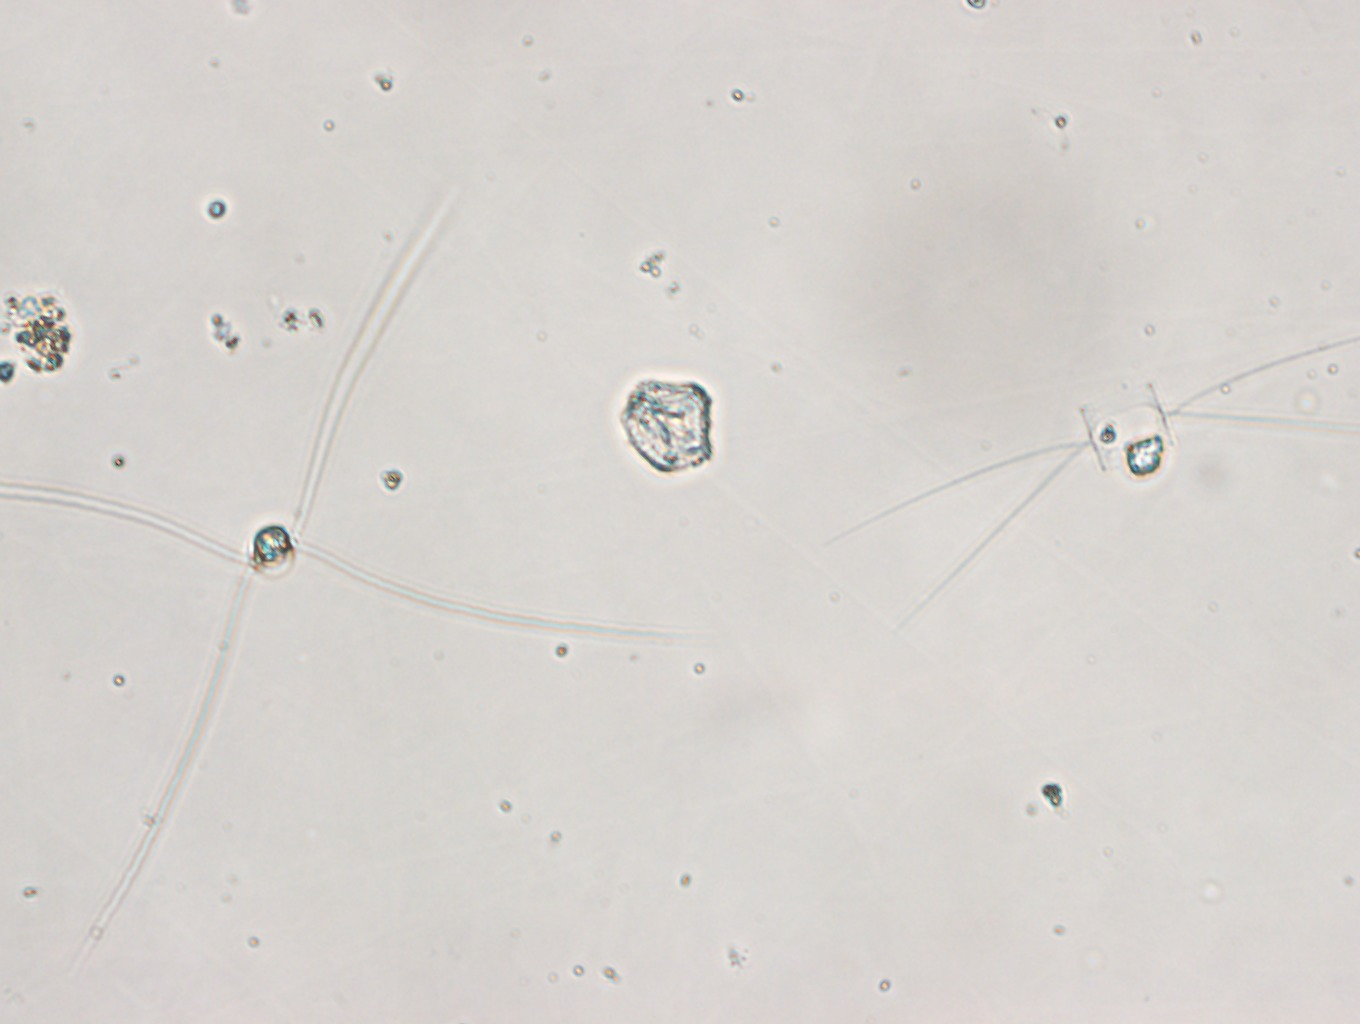chaetoceros: (1, 186, 702, 975), (832, 341, 1360, 628)
